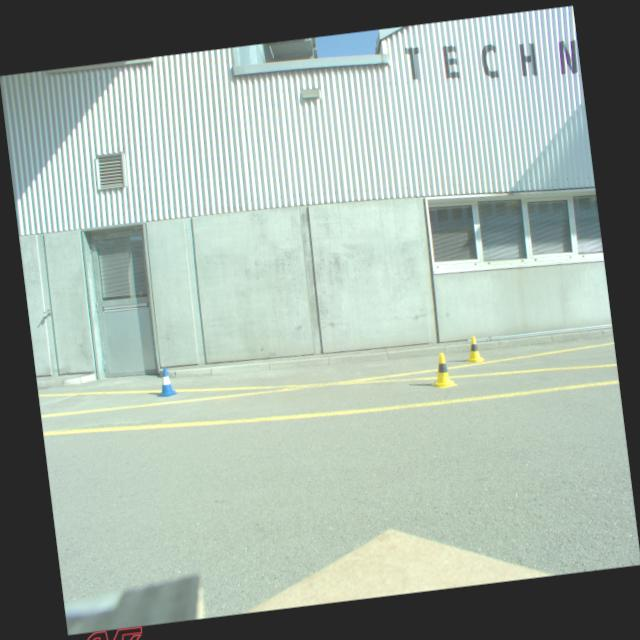blue_cone: (152, 366, 178, 398)
yellow_cone: (428, 351, 458, 389), (462, 334, 484, 364)
